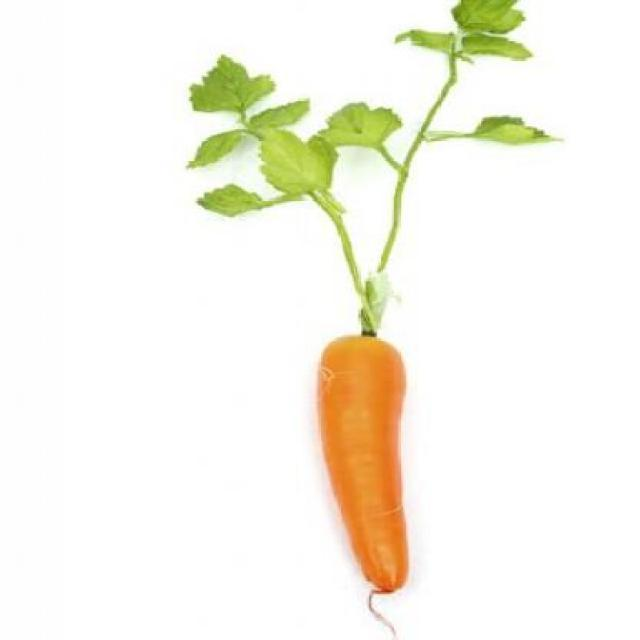carrot: (286, 320, 452, 616)
